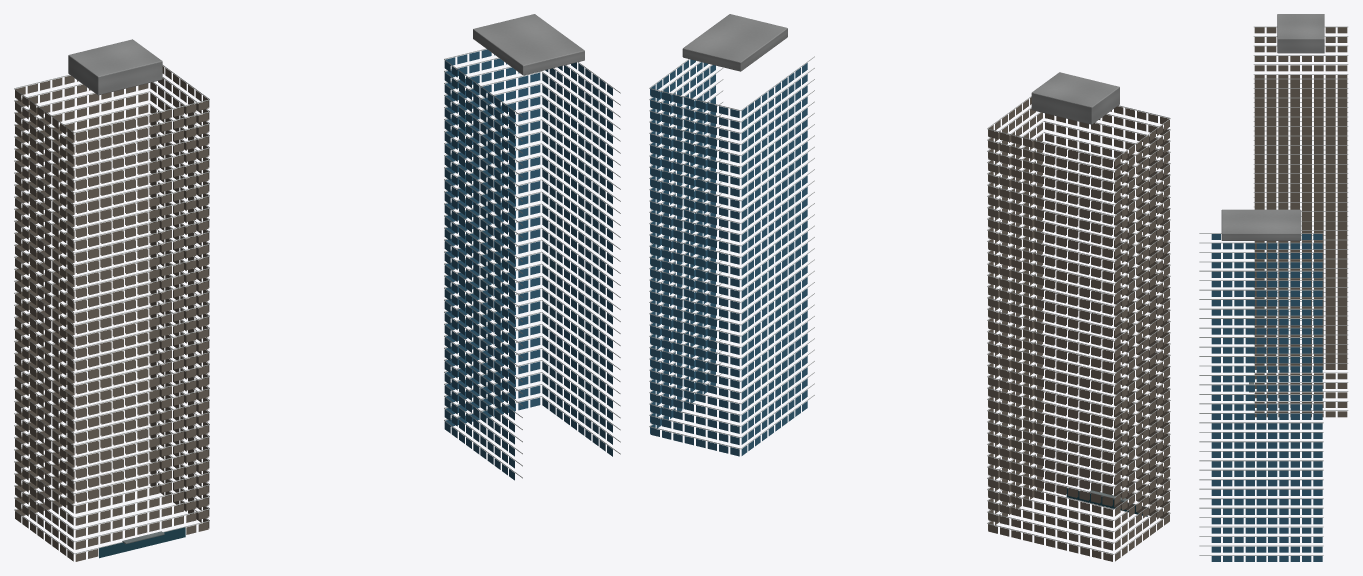
File: cell_3_-5_full.gltf
3 renders of one model, left to right at view 1: azimuth 30°, elevation 25°; view 2: azimuth 150°, elevation 25°; view 3: azimuth 270°, elevation 25°, orthographic. The views are drawn at different scales.
Parts seen in each view (by area): view 1: EKO_BATCH_EKO_|_smoked_bronze_glass, EKO_BATCH_EKO_|_deep_Atlantic_blue_glass, EKO_BATCH_EKO_|_warm_light_architectural_concrete, EKO_CROWN_MASS_EKO_010, EKO_CROWN_MASS_EKO_015, EKO_BATCH_EKO_|_retail_storefront_glass; view 2: EKO_BATCH_EKO_|_smoked_bronze_glass, EKO_BATCH_EKO_|_deep_Atlantic_blue_glass, EKO_BATCH_EKO_|_warm_light_architectural_concrete, EKO_CROWN_MASS_EKO_010, EKO_CROWN_MASS_EKO_015; view 3: EKO_BATCH_EKO_|_deep_Atlantic_blue_glass, EKO_BATCH_EKO_|_smoked_bronze_glass, EKO_BATCH_EKO_|_warm_light_architectural_concrete, EKO_CROWN_MASS_EKO_010, EKO_CROWN_MASS_EKO_015.
Boxes of the visible parts, box(x1,y1,x2,y2) form: EKO_BATCH_EKO_|_smoked_bronze_glass: box(15, 66, 209, 561); EKO_BATCH_EKO_|_deep_Atlantic_blue_glass: box(444, 49, 612, 480); EKO_BATCH_EKO_|_warm_light_architectural_concrete: box(14, 48, 620, 554); EKO_CROWN_MASS_EKO_010: box(473, 14, 584, 75); EKO_CROWN_MASS_EKO_015: box(68, 39, 162, 95); EKO_BATCH_EKO_|_retail_storefront_glass: box(99, 527, 185, 558); EKO_BATCH_EKO_|_smoked_bronze_glass: box(988, 97, 1169, 561); EKO_BATCH_EKO_|_deep_Atlantic_blue_glass: box(650, 59, 807, 456); EKO_BATCH_EKO_|_warm_light_architectural_concrete: box(649, 56, 1170, 554); EKO_CROWN_MASS_EKO_010: box(682, 14, 787, 71); EKO_CROWN_MASS_EKO_015: box(1031, 72, 1119, 124); EKO_BATCH_EKO_|_deep_Atlantic_blue_glass: box(1211, 234, 1322, 561); EKO_BATCH_EKO_|_smoked_bronze_glass: box(1254, 27, 1347, 417); EKO_BATCH_EKO_|_warm_light_architectural_concrete: box(1199, 26, 1348, 555); EKO_CROWN_MASS_EKO_010: box(1221, 209, 1301, 240); EKO_CROWN_MASS_EKO_015: box(1277, 14, 1324, 53).
Size of the model in its own units: 182 by 159 by 58.49.
6 materials, 2 textured.
